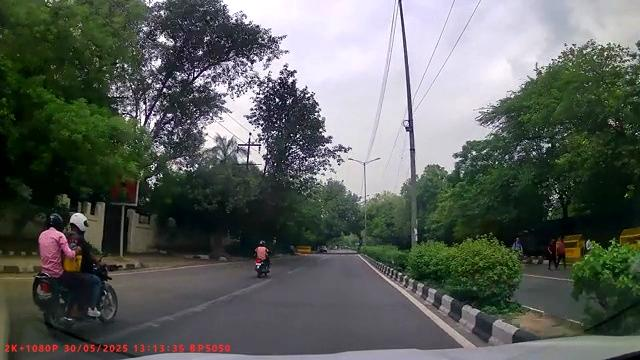motorcycle_with_helmet: (253, 239, 272, 279)
passenger_with_helmet: (31, 210, 119, 338)
